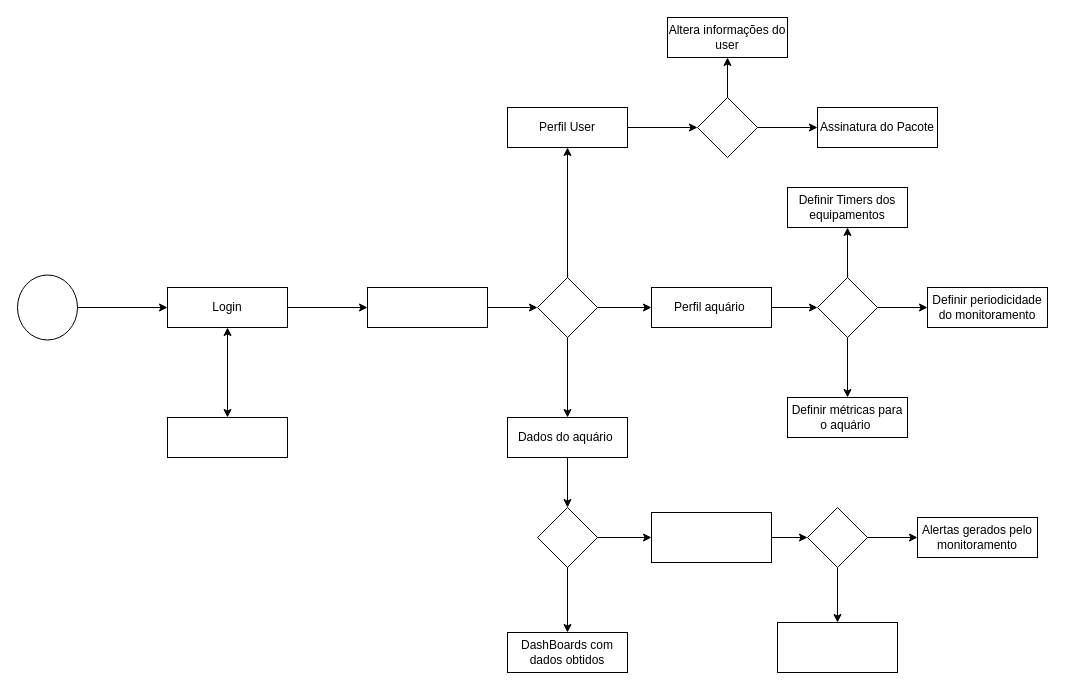
Some shapes in this 1065 by 690 pixel diagram are drawn without their labels. The centre of each missing label's shape, as x and y in pixels:
"Cadastro" belongs at (227,437).
"Inicio" belongs at (47,307).
"Recomendações de compra oferecidas ao usuário" belongs at (837,647).
"Relatórios de monitoramento periódico" belongs at (711,537).
"Tela inicial" belongs at (427,307).
